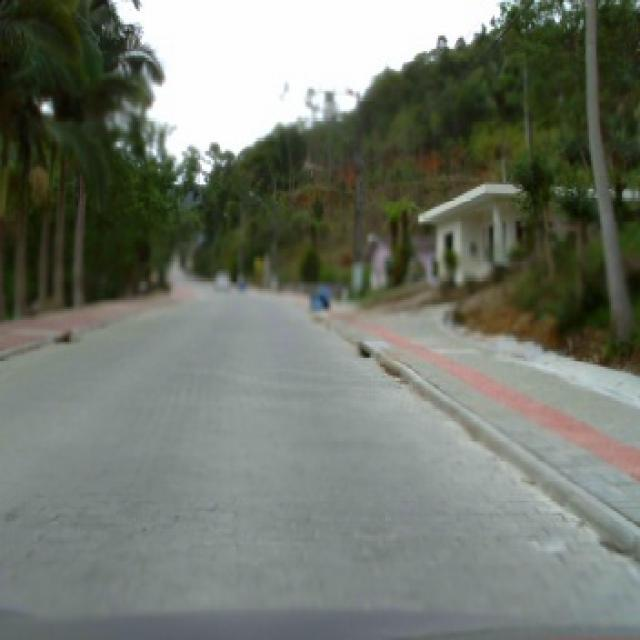Poth-hole: (356, 340, 371, 358), (51, 329, 71, 342)
